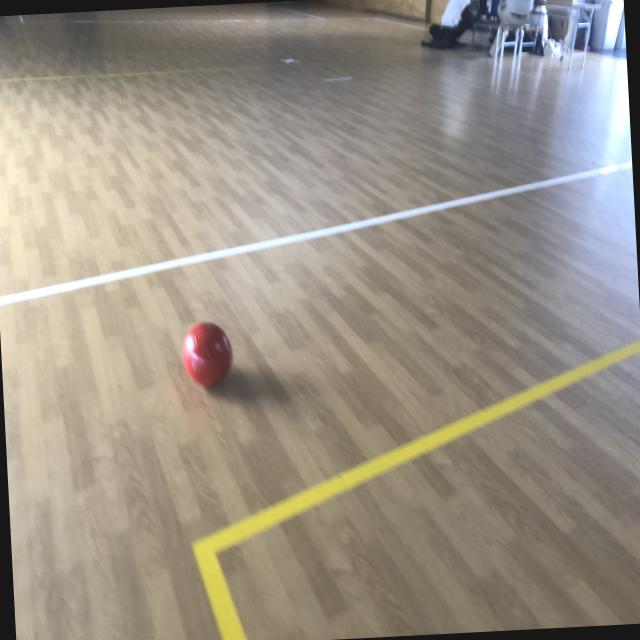red_ball: (182, 320, 234, 390)
